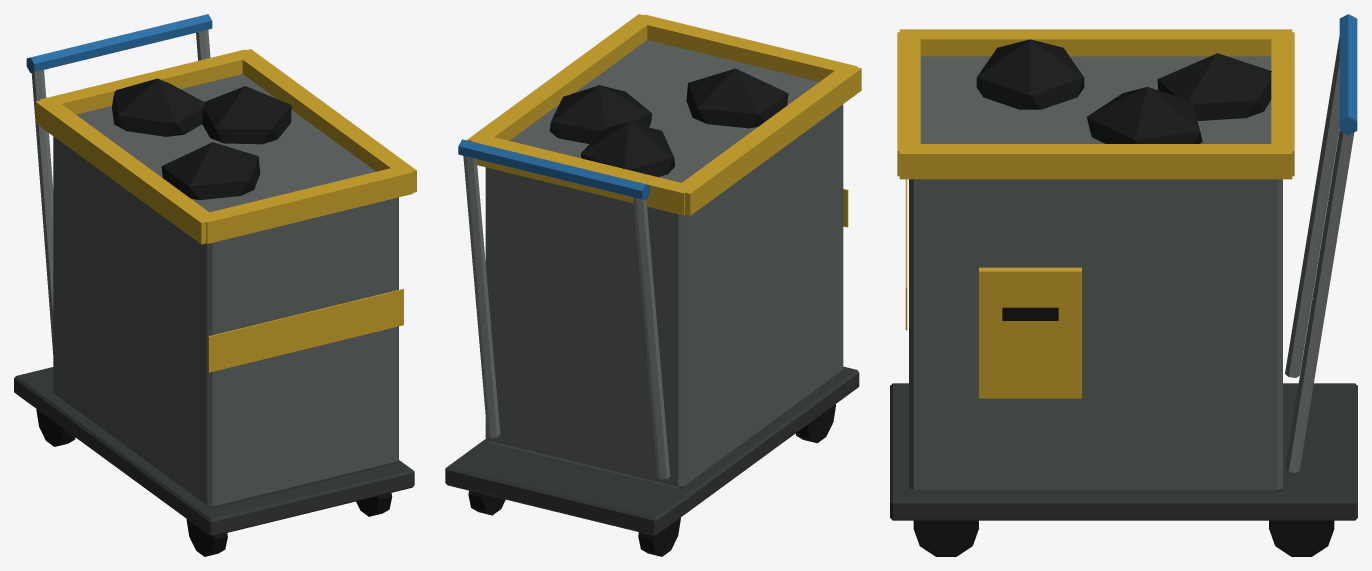
File: xe_rac.glb
The picture shows the model from 3 angles, left to right: view 1: azimuth 30°, elevation 25°; view 2: azimuth 150°, elevation 25°; view 3: azimuth 270°, elevation 25°; orthographic projection. The views are drawn at different scales.
Visible parts, largest first — view 1: xe_rac; view 2: xe_rac; view 3: xe_rac.
Boxes of the visible parts, bbox=[...] form: xe_rac: bbox=[14, 14, 416, 556]; xe_rac: bbox=[445, 14, 861, 556]; xe_rac: bbox=[890, 14, 1357, 556].
Size of the model in its own units: 0.63 by 1.04 by 1.
